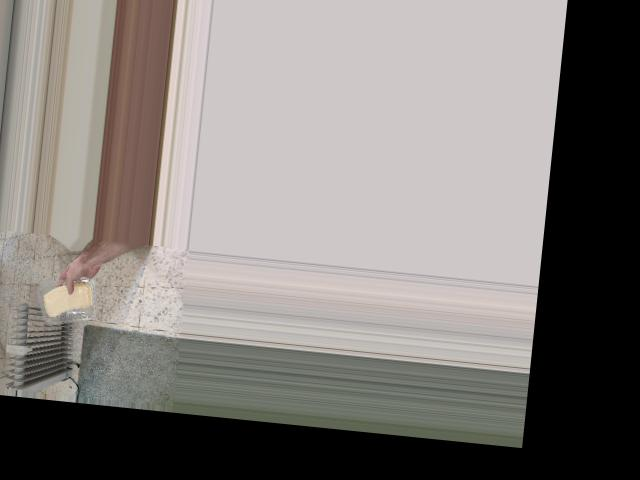cheese: (36, 275, 98, 322)
